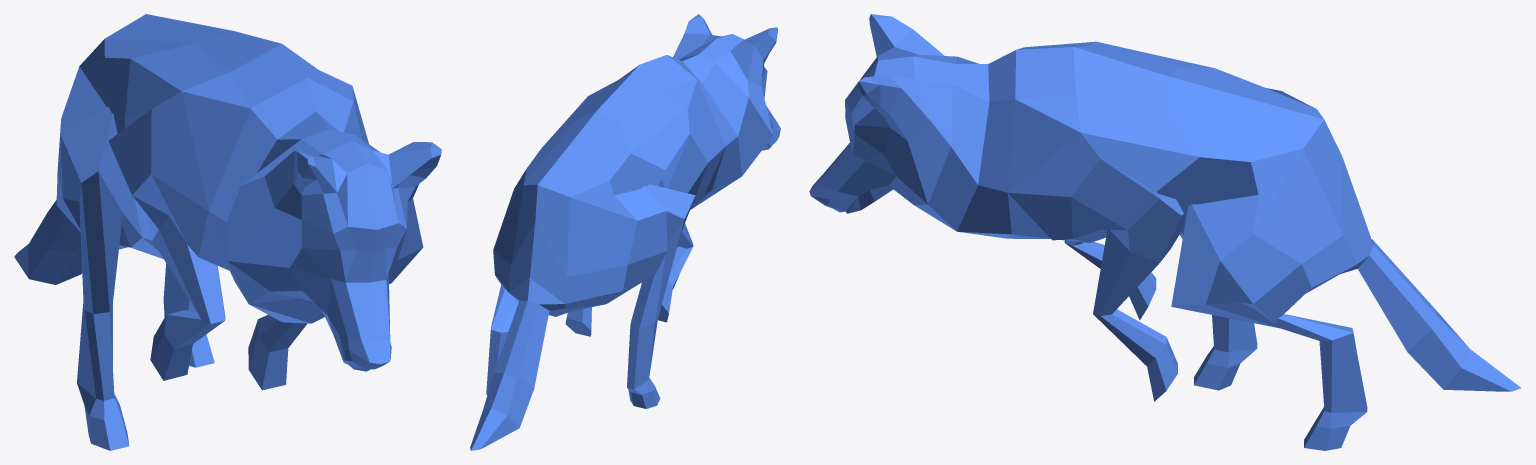
File: wolfRunA_v009014.obj
3 views of the same model, side by side, from view 1: azimuth 30°, elevation 25°; view 2: azimuth 150°, elevation 25°; view 3: azimuth 270°, elevation 25° (orthographic). The views are drawn at different scales.
Visible parts, largest first — view 1: comp_wolf_rig:wolf_body comp_wolf_rig:wolf; view 2: comp_wolf_rig:wolf_body comp_wolf_rig:wolf; view 3: comp_wolf_rig:wolf_body comp_wolf_rig:wolf.
Part boxes in pixels (<box>): comp_wolf_rig:wolf_body comp_wolf_rig:wolf: <box>14,14,441,450</box>; comp_wolf_rig:wolf_body comp_wolf_rig:wolf: <box>470,14,780,450</box>; comp_wolf_rig:wolf_body comp_wolf_rig:wolf: <box>809,14,1520,450</box>.
Bounding box in the file's own units: 39.71 × 65.31 × 113.
